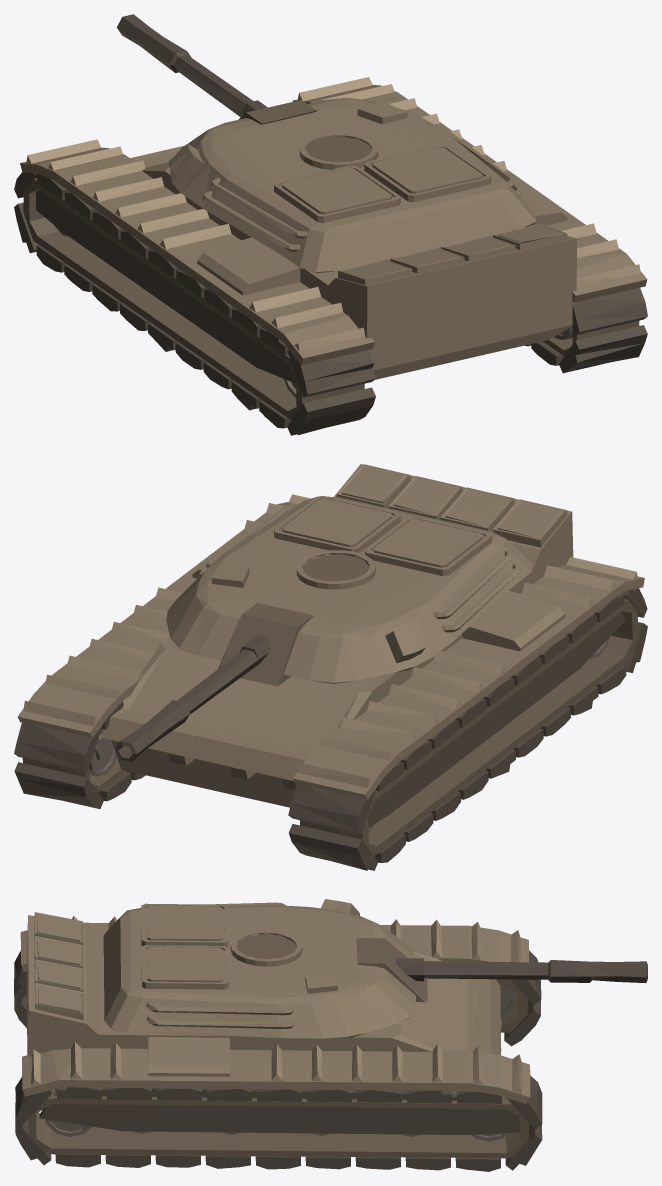
Rendered from tank_sniper.glb.
The picture shows the model from 3 angles, top to bottom: view 1: azimuth 30°, elevation 25°; view 2: azimuth 150°, elevation 25°; view 3: azimuth 270°, elevation 25°; orthographic projection. The views are drawn at different scales.
Visible parts, largest first — view 1: TankBody, TankTurret; view 2: TankBody, TankTurret; view 3: TankBody, TankTurret.
Boxes of the visible parts, x1,y1,x2,y2 form: TankBody: [14, 77, 647, 435]; TankTurret: [117, 14, 536, 273]; TankBody: [14, 464, 647, 870]; TankTurret: [115, 495, 532, 761]; TankBody: [14, 912, 542, 1171]; TankTurret: [103, 899, 647, 1038].
Bounding box in the file's own units: 2.8 × 1.33 × 4.89.
